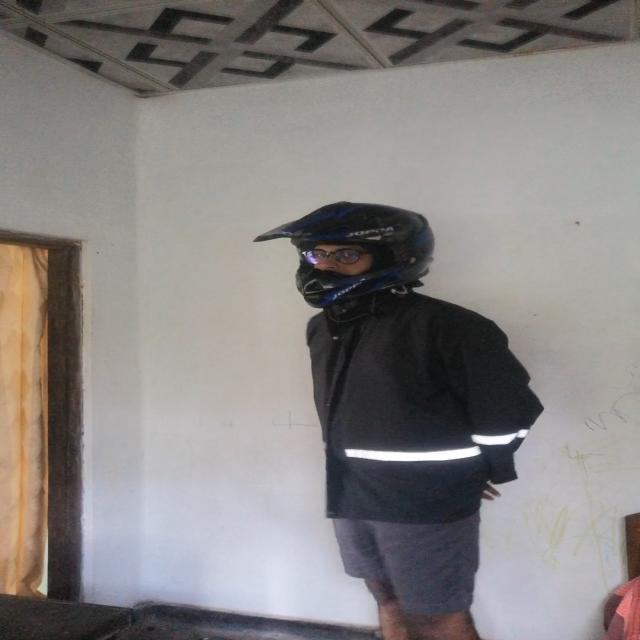Helmet_Wearer: (280, 198, 447, 316)
Jacket_Wearer: (304, 292, 542, 524)
Person: (272, 192, 532, 640)
